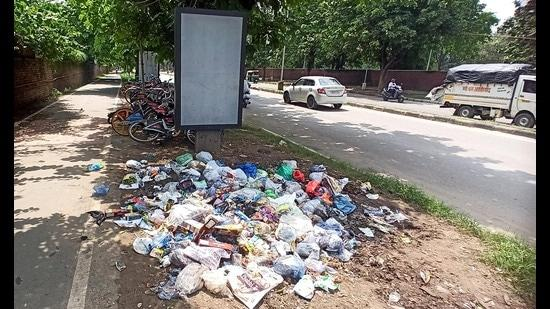road: (244, 91, 534, 242), (15, 73, 120, 308)
trash: (114, 155, 358, 297)
